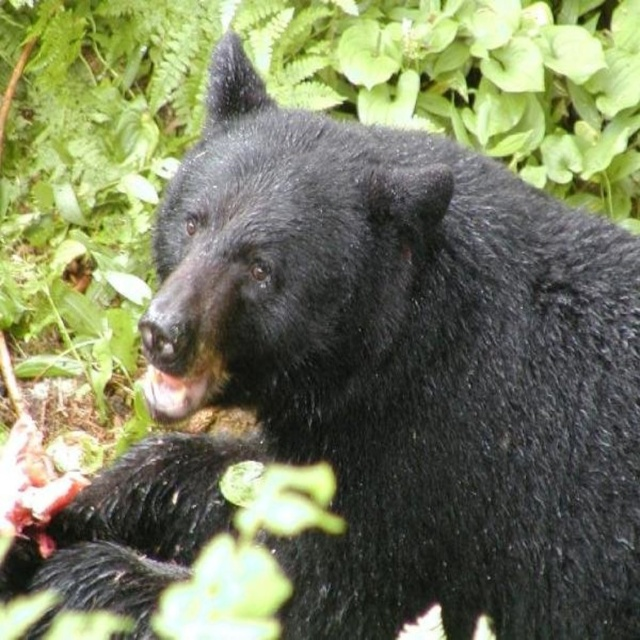Bear: (0, 30, 639, 639)
